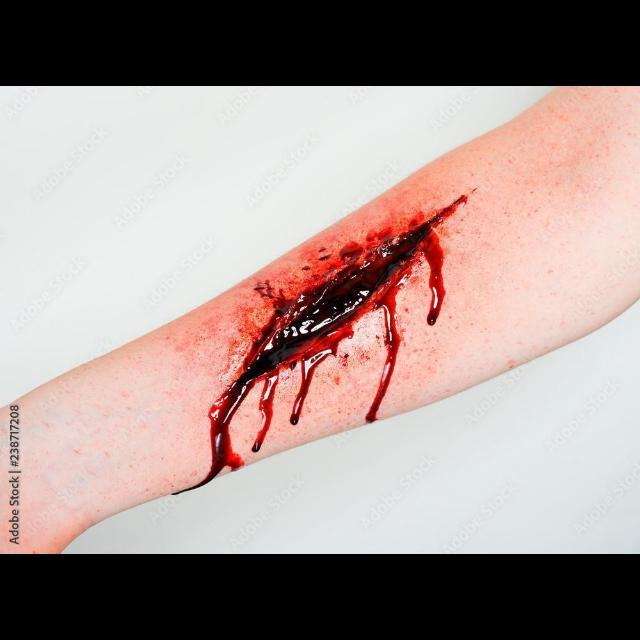blood: (177, 195, 468, 494), (175, 188, 443, 402)
